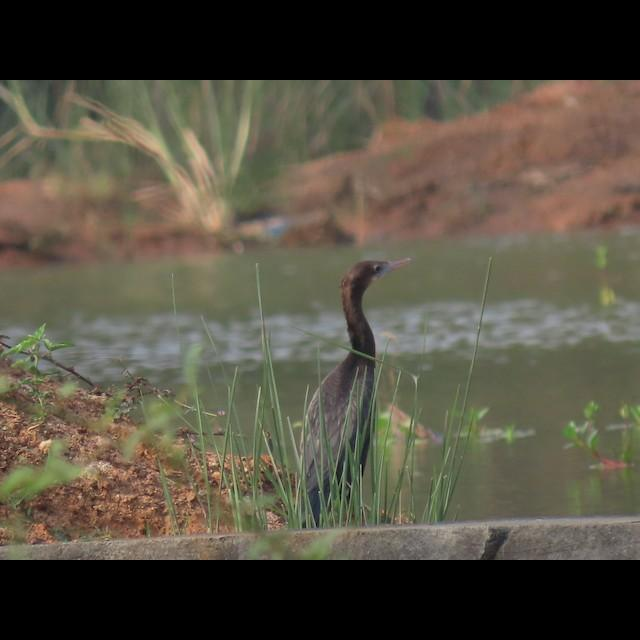cormorant: (278, 250, 420, 518)
